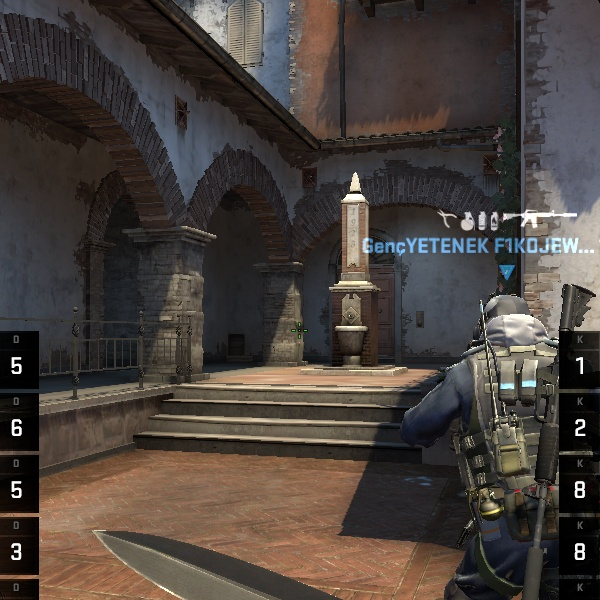ct_body: (396, 285, 581, 600)
ct_head: (466, 282, 542, 362)
